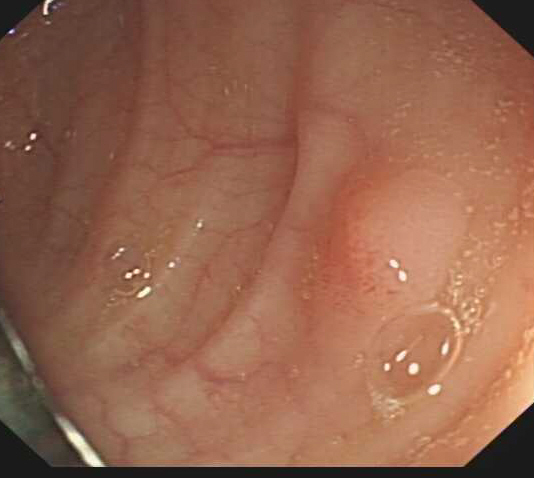adenoma: (345, 166, 473, 307)
